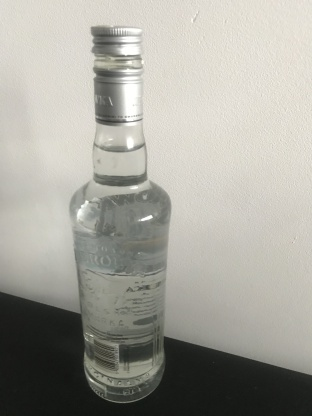nakretka: (89, 23, 146, 127)
